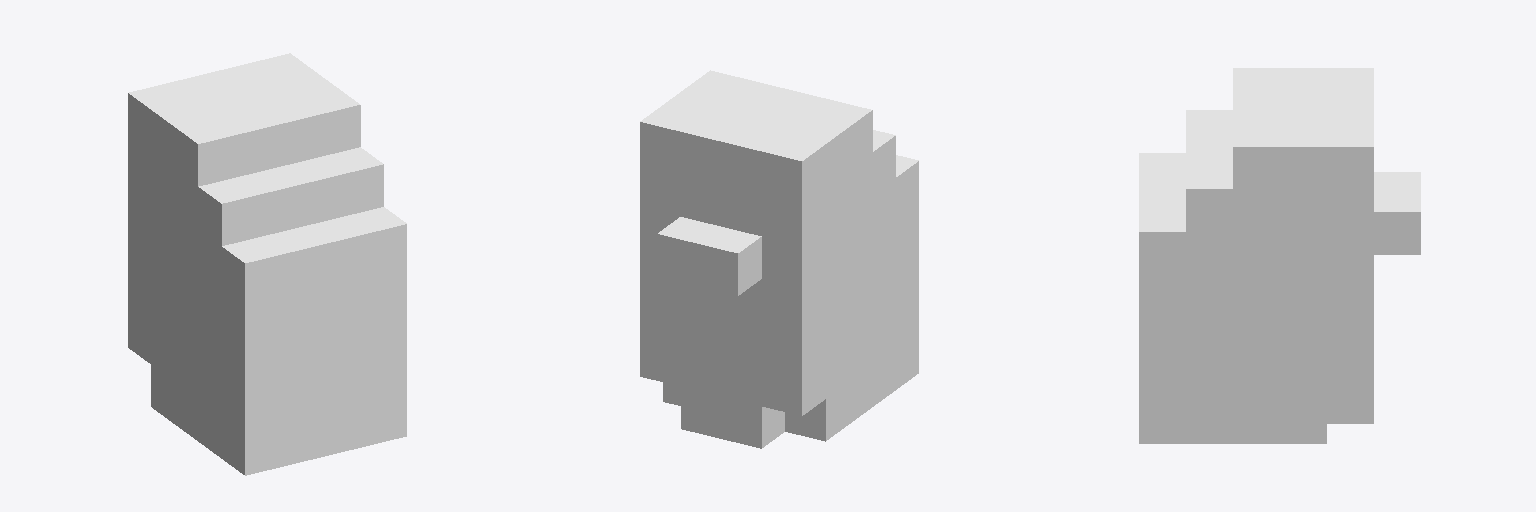
Rendered from Chiken2.obj.
The picture shows the model from 3 angles: view 1: azimuth 30°, elevation 25°; view 2: azimuth 150°, elevation 25°; view 3: azimuth 270°, elevation 25°; orthographic projection.
Parts seen in each view (by area): view 1: object 1; view 2: object 1; view 3: object 1.
Boxes of the visible parts, box(x1,y1,x2,y2) form: object 1: box(128, 53, 406, 475); object 1: box(640, 70, 918, 448); object 1: box(1139, 68, 1420, 443).
Size of the model in its own units: 0.4 by 0.7 by 0.6.